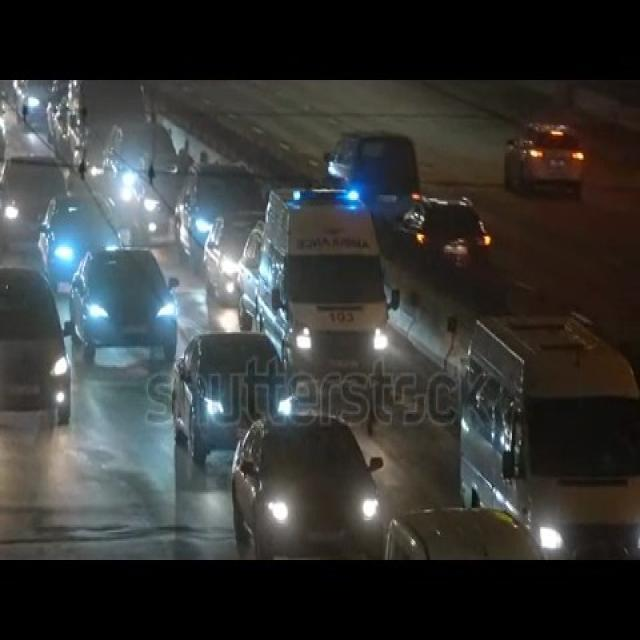emergency: (260, 176, 390, 388)
